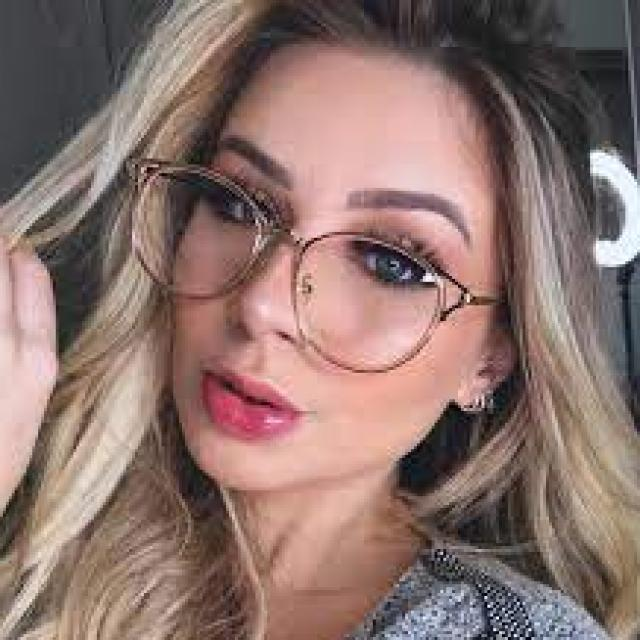Glasses: (114, 138, 486, 392)
